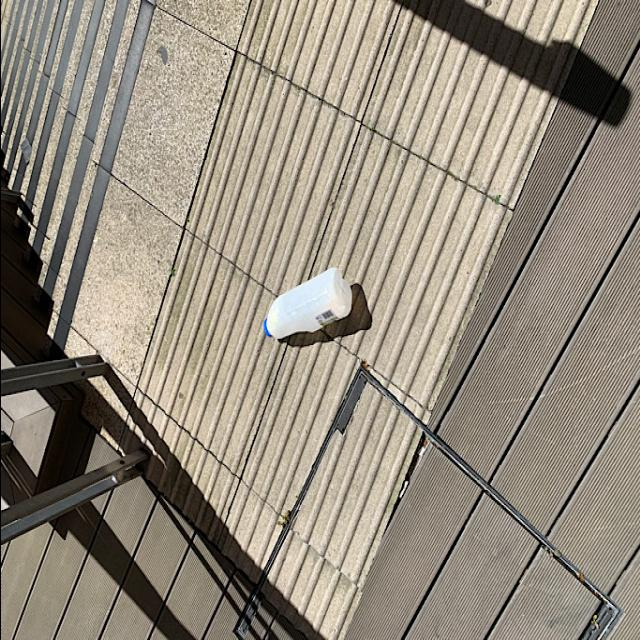HDPEM: (258, 262, 352, 354)
